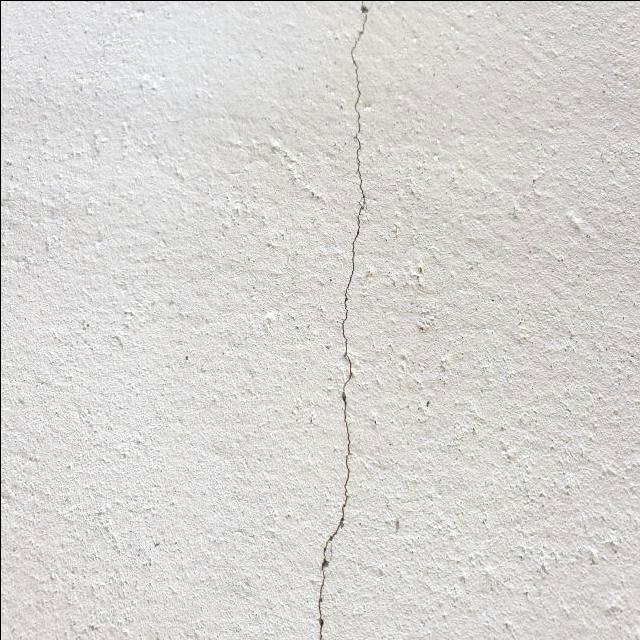SurfaceCrack: (276, 1, 413, 640)
